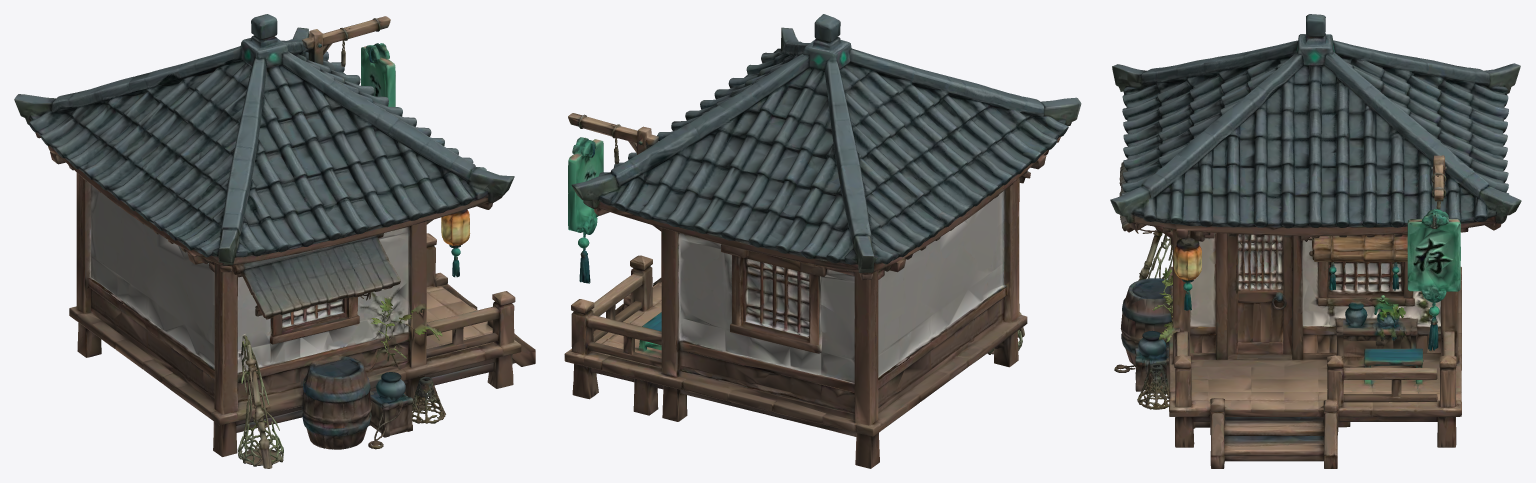
Rendered from save-shack.glb.
3 views of the same model, side by side, from view 1: azimuth 30°, elevation 25°; view 2: azimuth 150°, elevation 25°; view 3: azimuth 270°, elevation 25° (orthographic). The views are drawn at different scales.
Visible parts, largest first — view 1: tripo_node_f1500dd8-9a4f-4fd4-819d-af17bdd33497; view 2: tripo_node_f1500dd8-9a4f-4fd4-819d-af17bdd33497; view 3: tripo_node_f1500dd8-9a4f-4fd4-819d-af17bdd33497.
Boxes of the visible parts, x1,y1,x2,y2 form: tripo_node_f1500dd8-9a4f-4fd4-819d-af17bdd33497: (14,14,535,468); tripo_node_f1500dd8-9a4f-4fd4-819d-af17bdd33497: (564,14,1081,468); tripo_node_f1500dd8-9a4f-4fd4-819d-af17bdd33497: (1110,14,1521,468).
Size of the model in its own units: 0.9805 by 0.9166 by 0.9743.
1 material, 1 textured.
